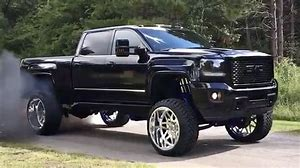smoke: (1, 48, 55, 142)
